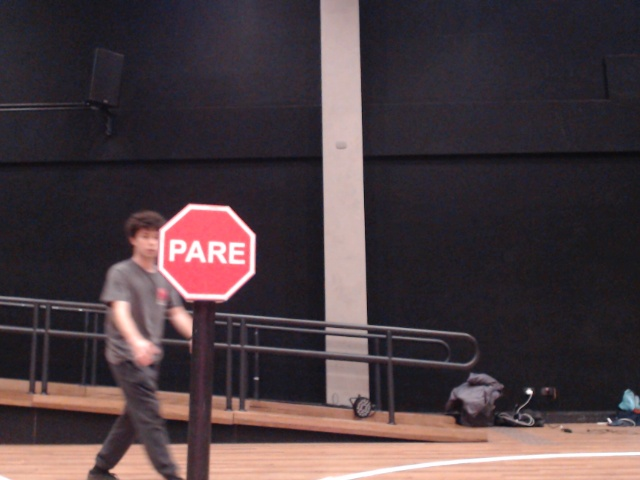SEMAFORO: (145, 193, 286, 323)
